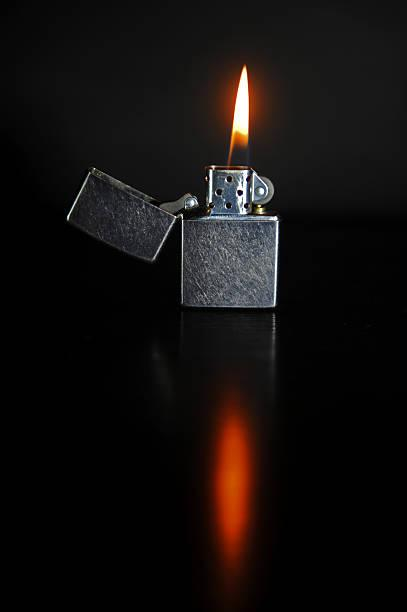Fire: (224, 59, 253, 165)
